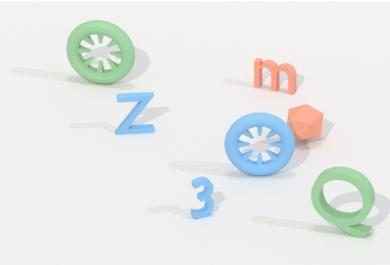0-TronCanh: (283, 101, 328, 144)
0-TronLo: (62, 16, 138, 87), (220, 109, 296, 179)
3: (188, 173, 218, 222)
Q: (307, 164, 378, 241)
Z: (112, 89, 160, 138)
m: (250, 54, 300, 98)
